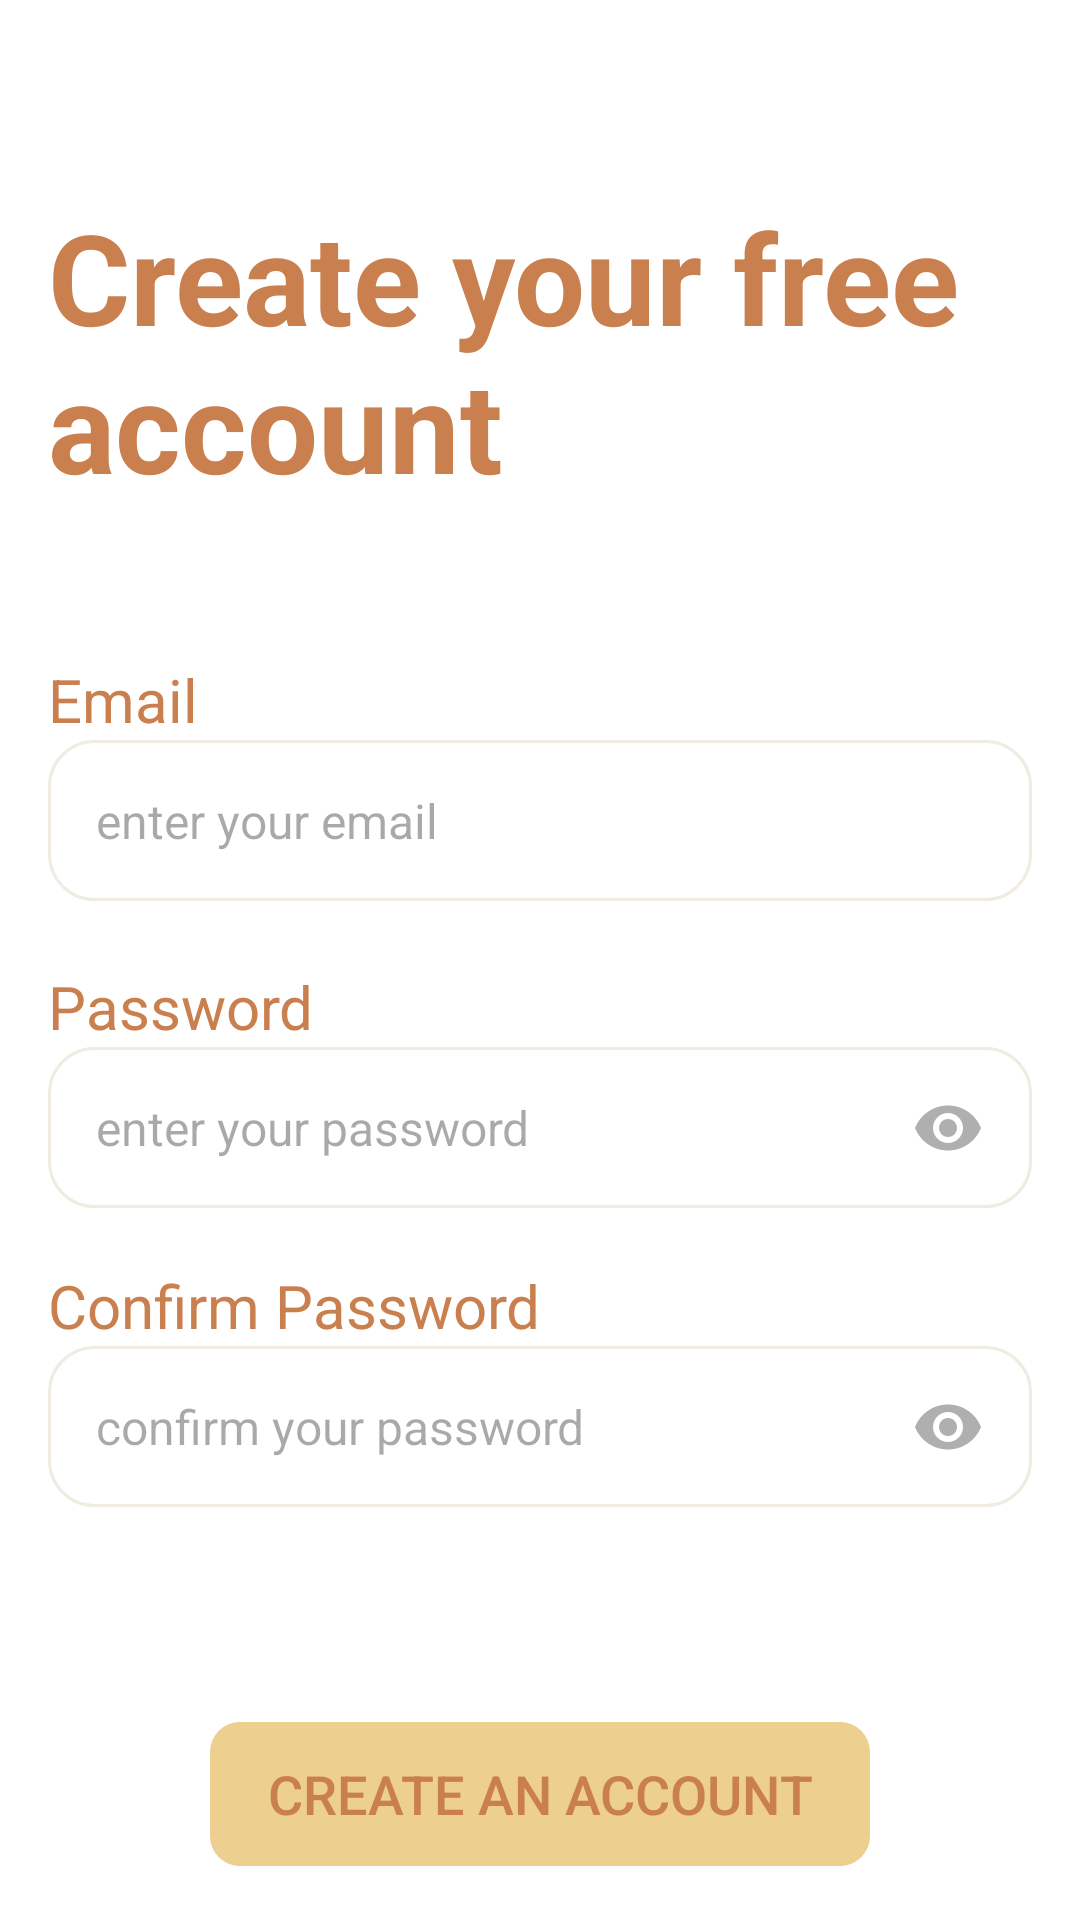

Icons on this 1080*1920 Android screen, each with the point to tap as [x,y]:
open eye: [948,1128], [948,1427]
